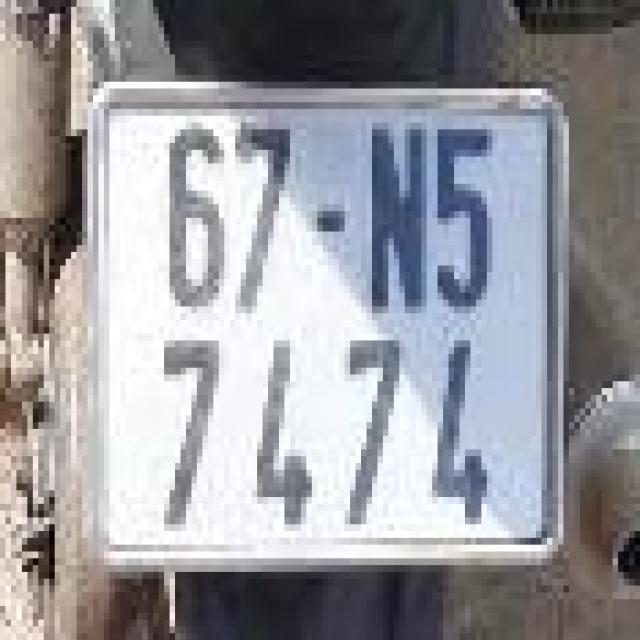4: (416, 323, 498, 534), (243, 323, 314, 534)
5: (435, 106, 500, 316)
6: (153, 112, 230, 317)
7: (142, 327, 230, 538), (326, 323, 408, 534), (222, 112, 298, 317)
N: (361, 106, 432, 316)
